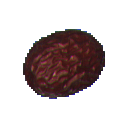gd: (20, 20, 128, 118)
